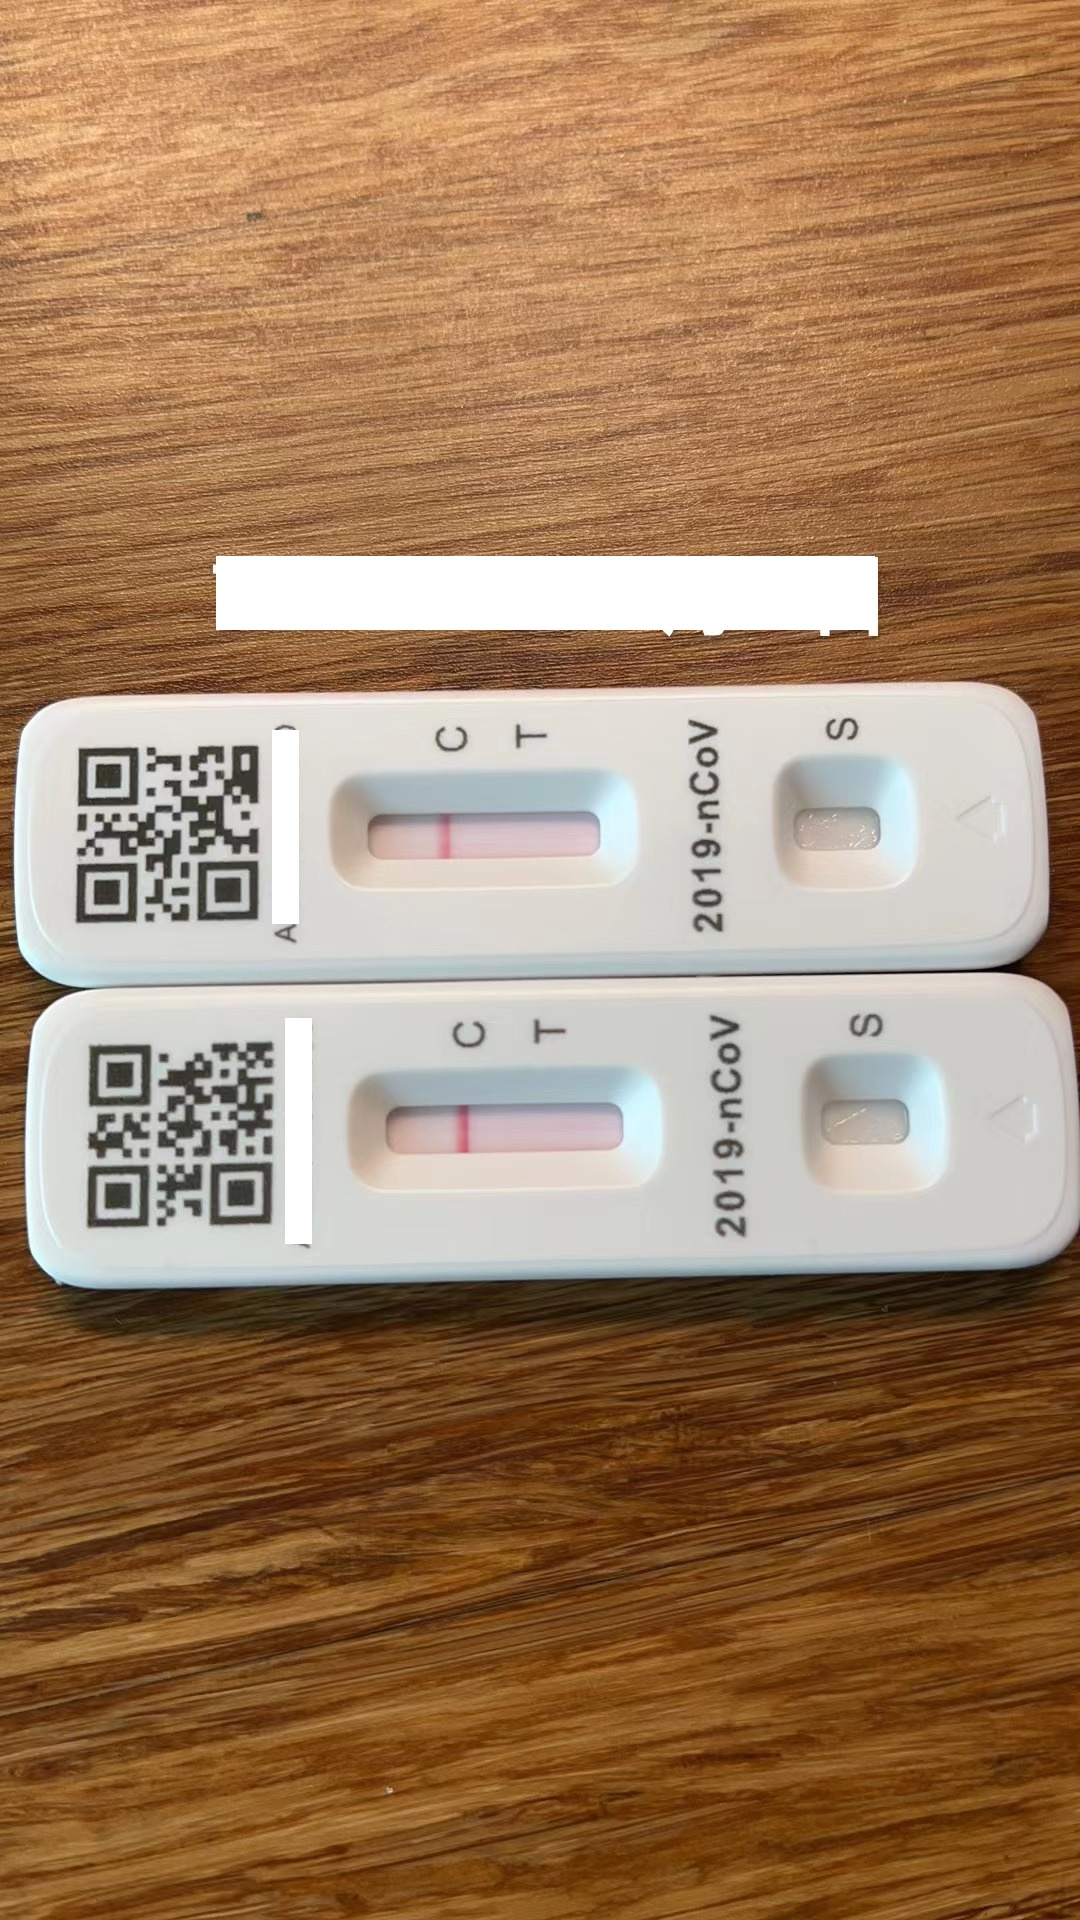negative: (347, 1069, 663, 1185), (328, 775, 644, 887)
